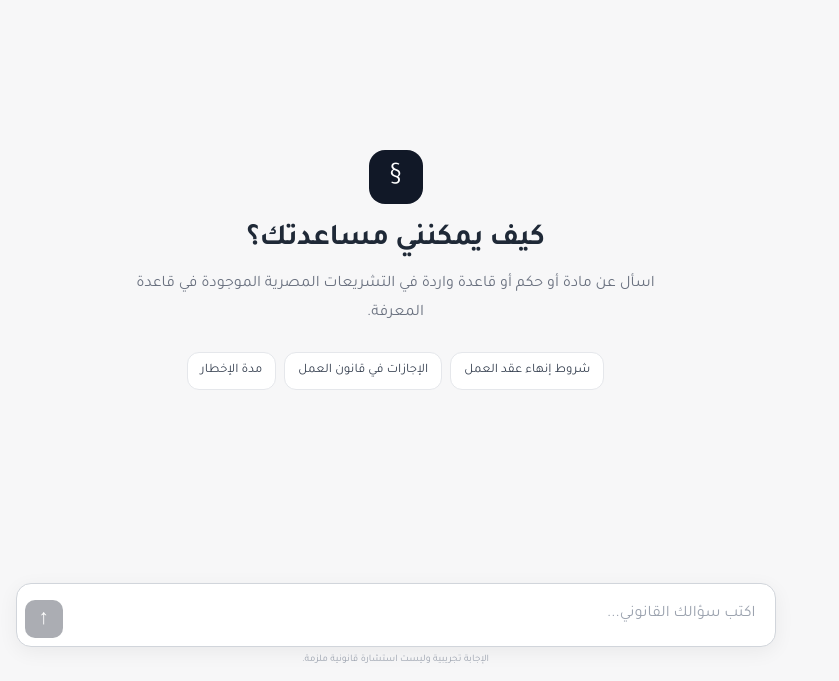
Test: Chat citation modal › leaves unmatched citation markers as plain text
Step 1. Type "سؤال بلا مصادر" into the text box named "السؤال القانوني" → (418, 615), box [70,592,766,638]
Then press Enter
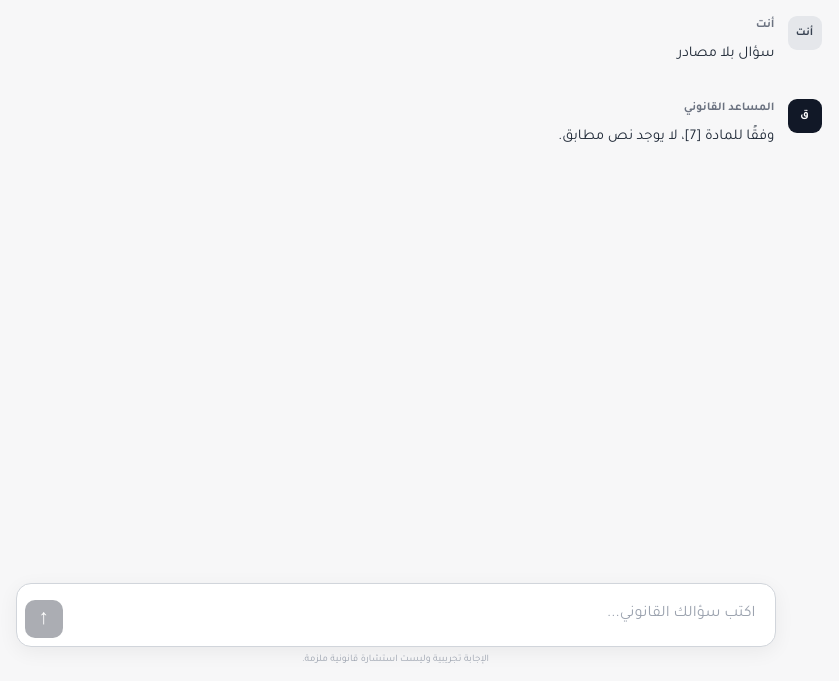
Expected: the text "وفقًا للمادة [7]، لا يوجد نص مطابق." is shown, [558,128,774,144]
